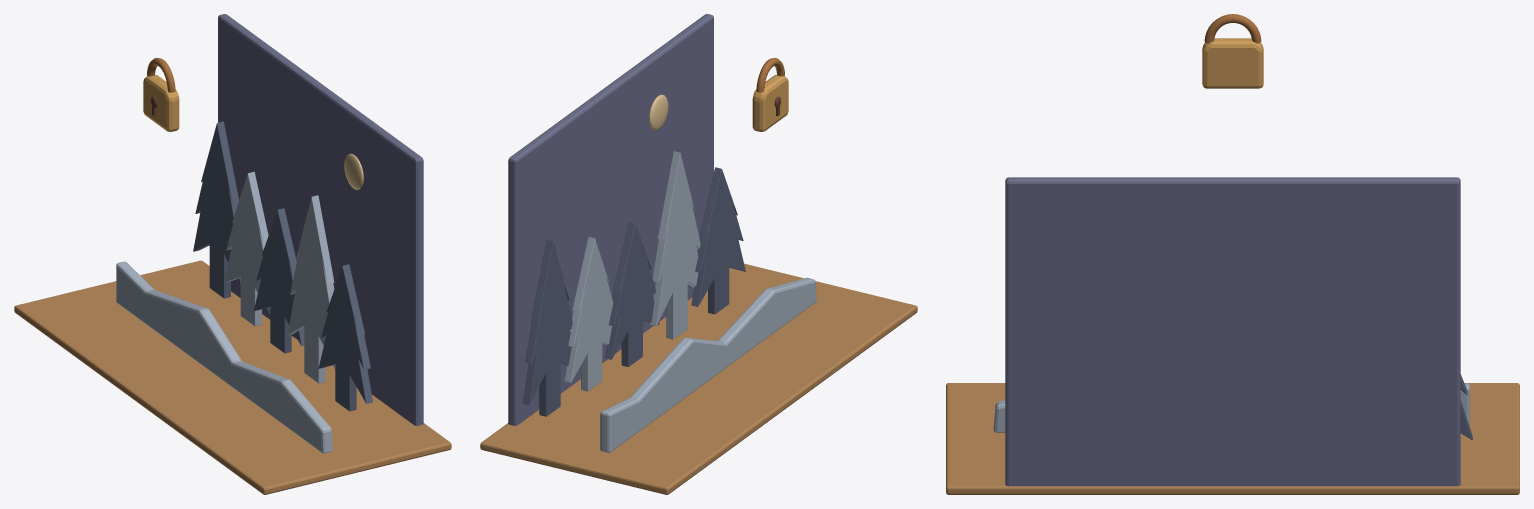
Rendered from SM_Hub_WinterPreview.fbx.
3 renders of one model, left to right at view 1: azimuth 30°, elevation 25°; view 2: azimuth 150°, elevation 25°; view 3: azimuth 270°, elevation 25°, orthographic. The views are drawn at different scales.
Visible parts, largest first — view 1: Painted night backdrop.002_Baked; view 2: Painted night backdrop.002_Baked; view 3: Painted night backdrop.002_Baked.
Part boxes in pixels (x1,y1,x2,y2): Painted night backdrop.002_Baked: [14, 14, 451, 494]; Painted night backdrop.002_Baked: [480, 14, 917, 494]; Painted night backdrop.002_Baked: [946, 14, 1519, 494].
Bounding box in the file's own units: 105 × 242 × 181.
